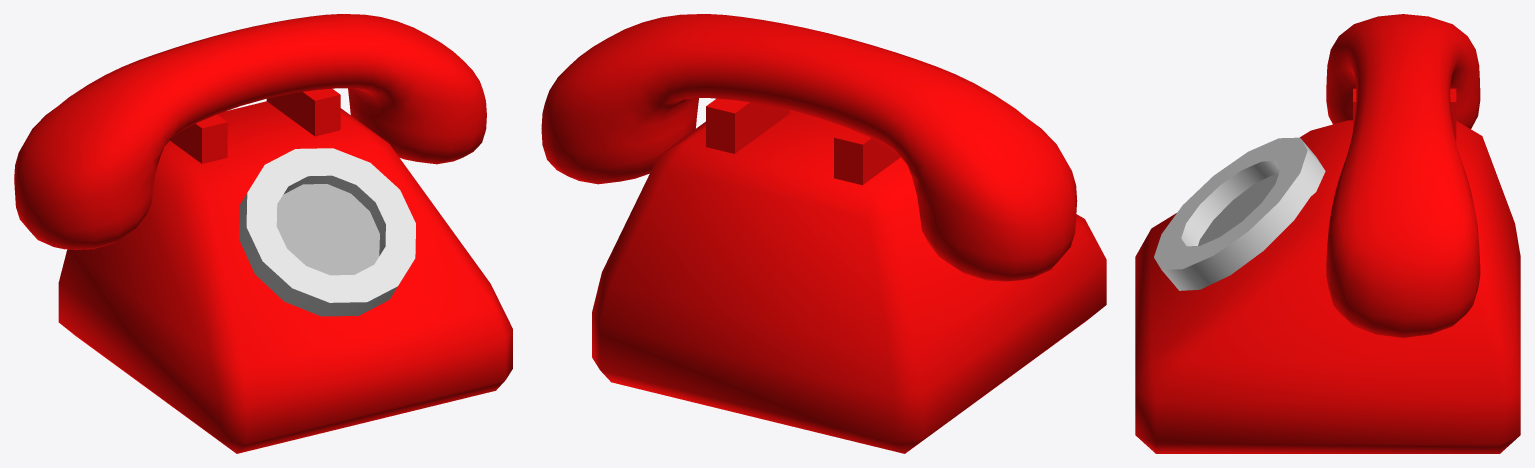
Rendered from red_phone.fbx.
3 renders of one model, left to right at view 1: azimuth 30°, elevation 25°; view 2: azimuth 150°, elevation 25°; view 3: azimuth 270°, elevation 25°, orthographic. The views are drawn at different scales.
Visible parts, largest first — view 1: Null_1; view 2: Null_1; view 3: Null_1.
Boxes of the visible parts, x1,y1,x2,y2 form: Null_1: [14, 14, 512, 453]; Null_1: [541, 14, 1106, 453]; Null_1: [1135, 14, 1520, 453].
Size of the model in its own units: 78.88 by 50.92 by 55.
Materials: 1 (1 with a texture image).
